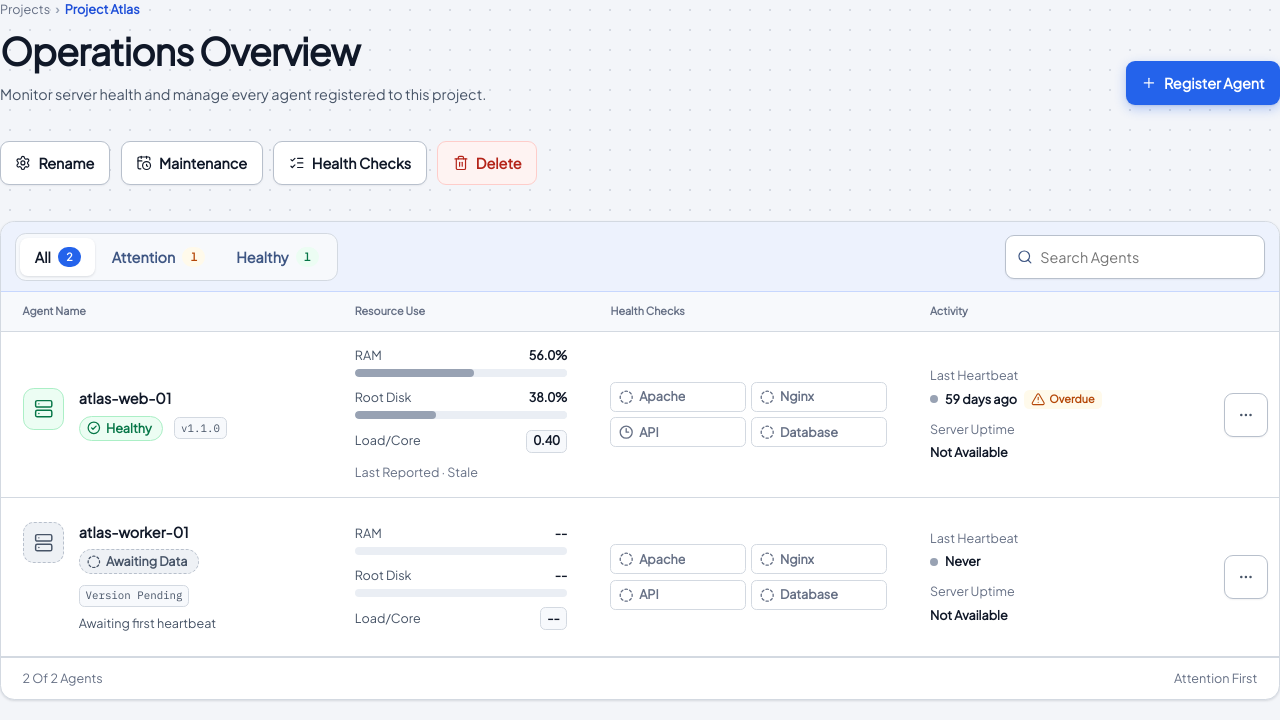
Test: project-scoped agents page › confirms agent registration with a toast
Click the button "Register Agent" at (1203, 83), box [1126, 61, 1279, 105]
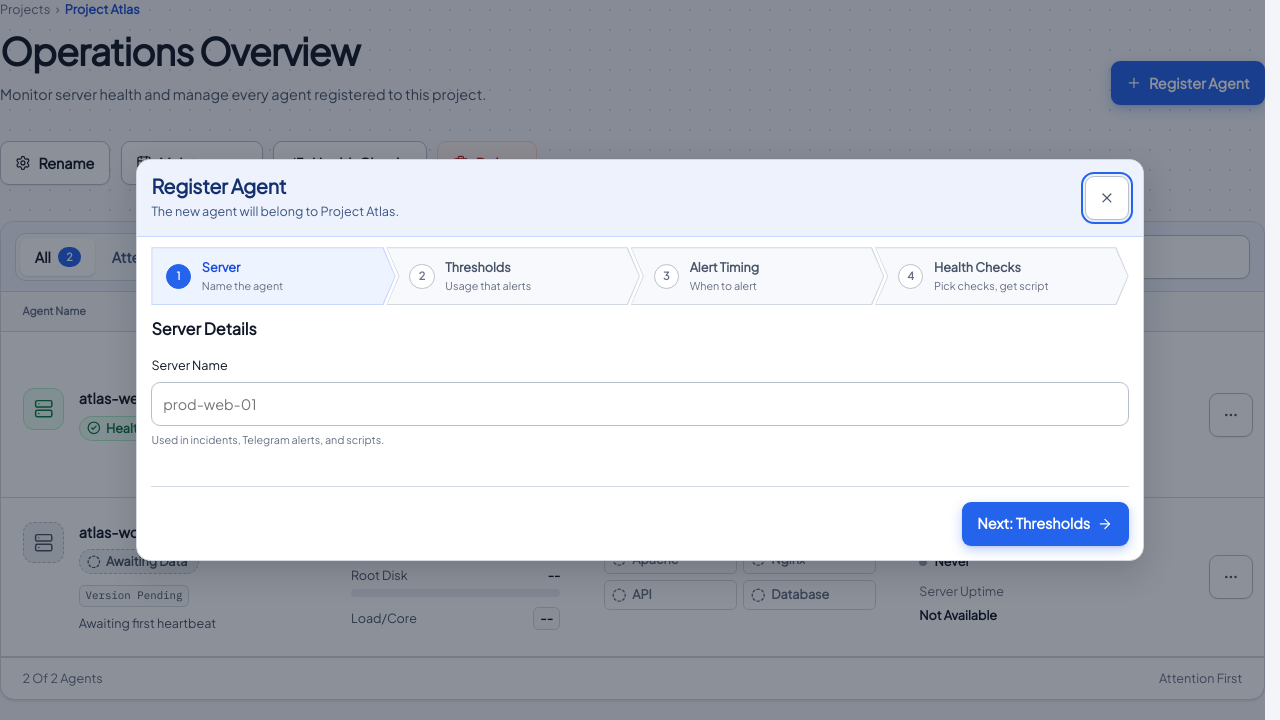
Type "atlas-api-01" into the field labelled "Server Name" at (640, 404), box [151, 382, 1129, 426]
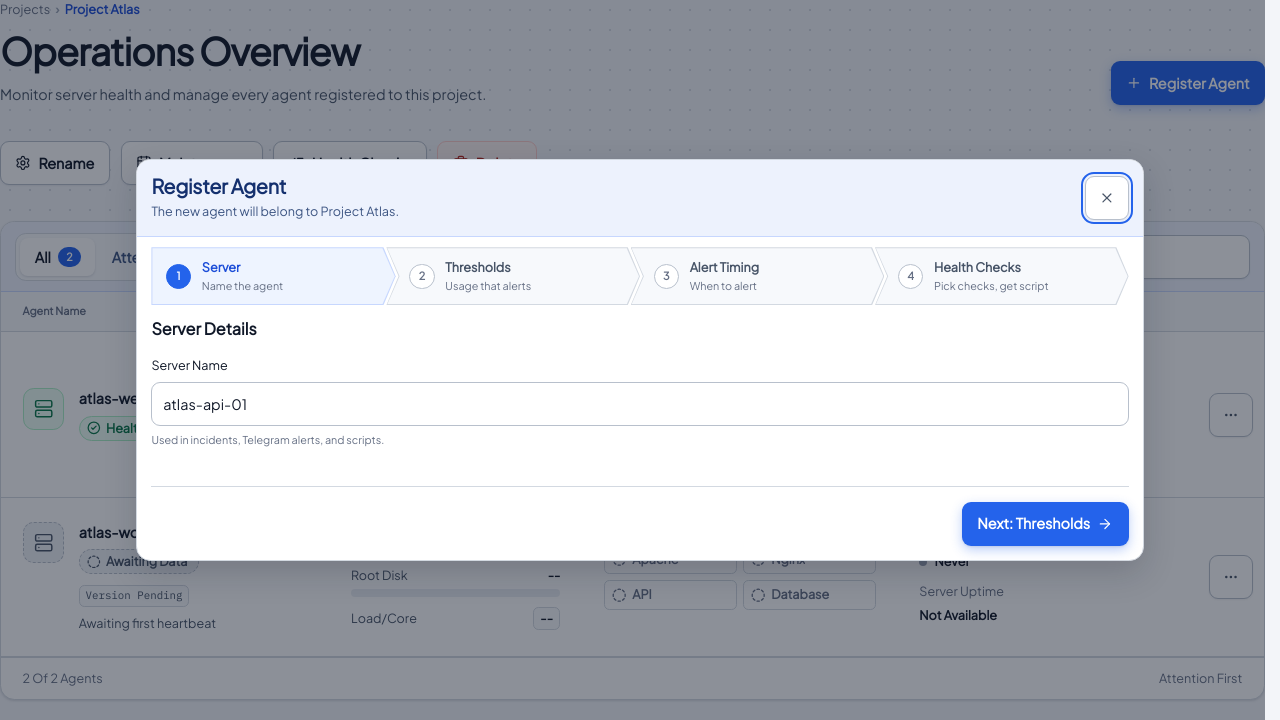
expect the field labelled "Middleware API URL" is not shown: met
Click the button "Next: Thresholds" at (1045, 524), box [962, 502, 1129, 546]
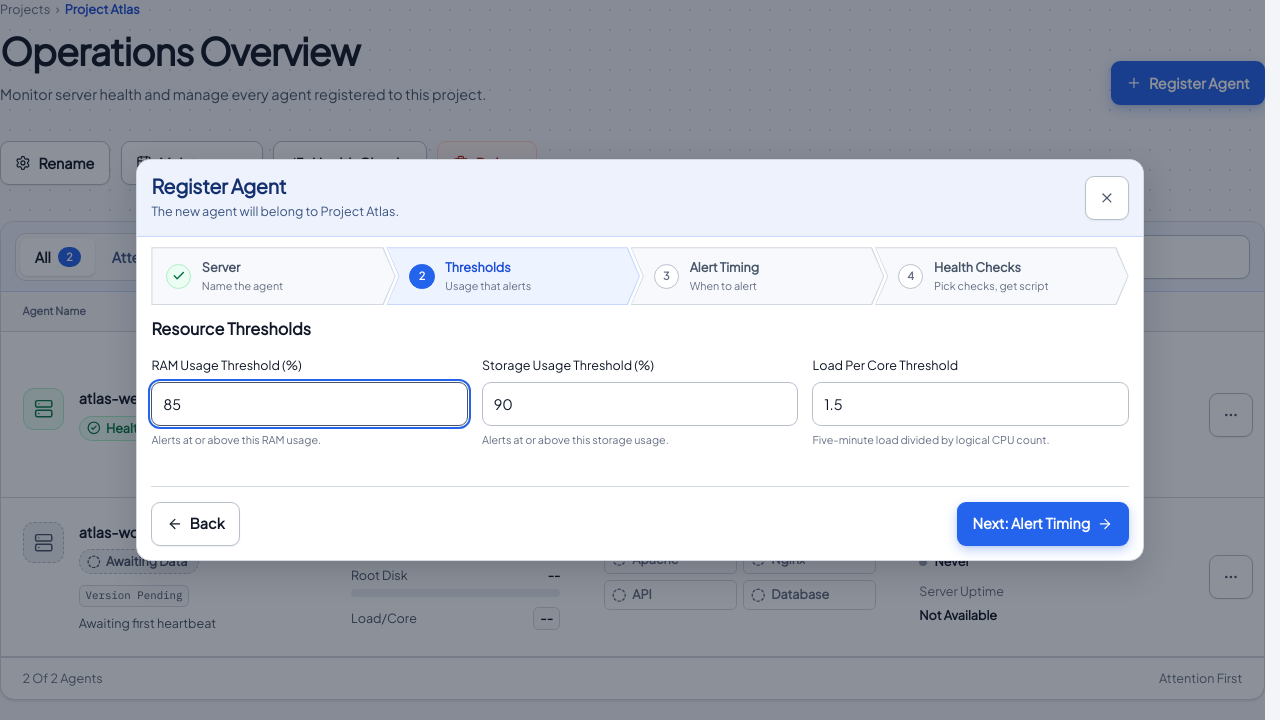
Click the button "Next: Alert Timing" at (1043, 524), box [957, 502, 1129, 546]
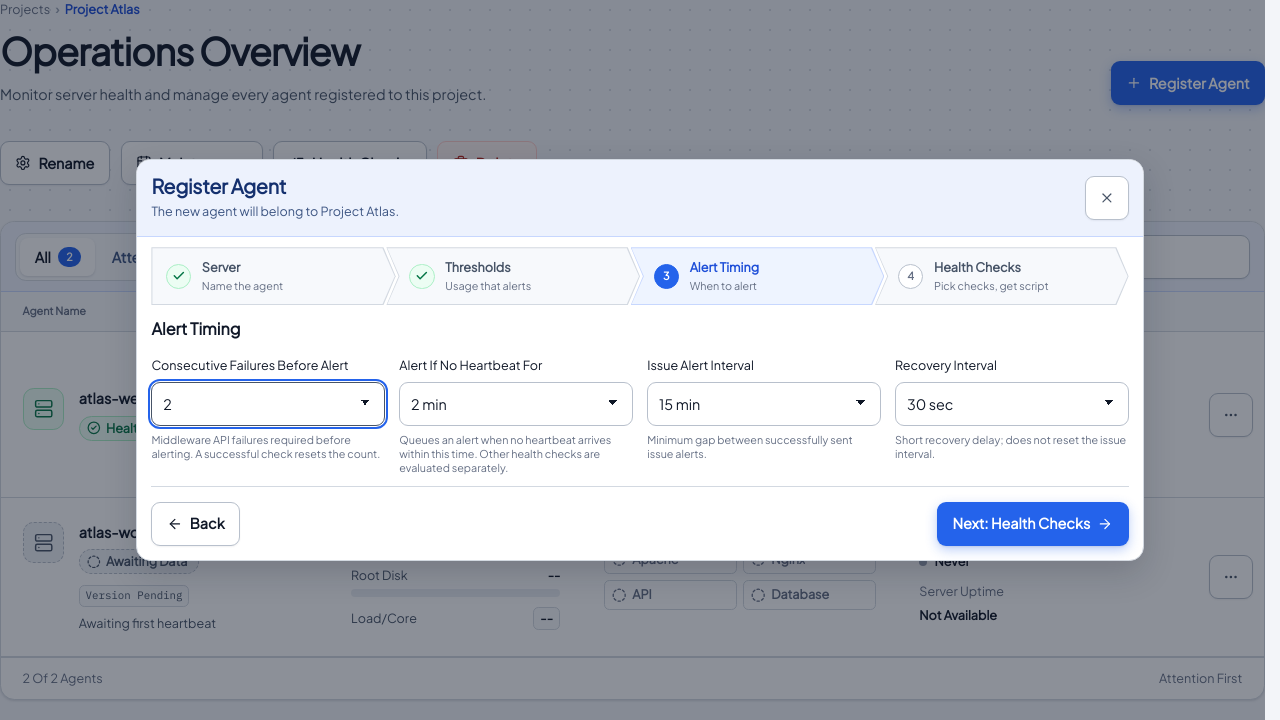
Click the button "Next: Health Checks" at (1033, 524), box [937, 502, 1129, 546]
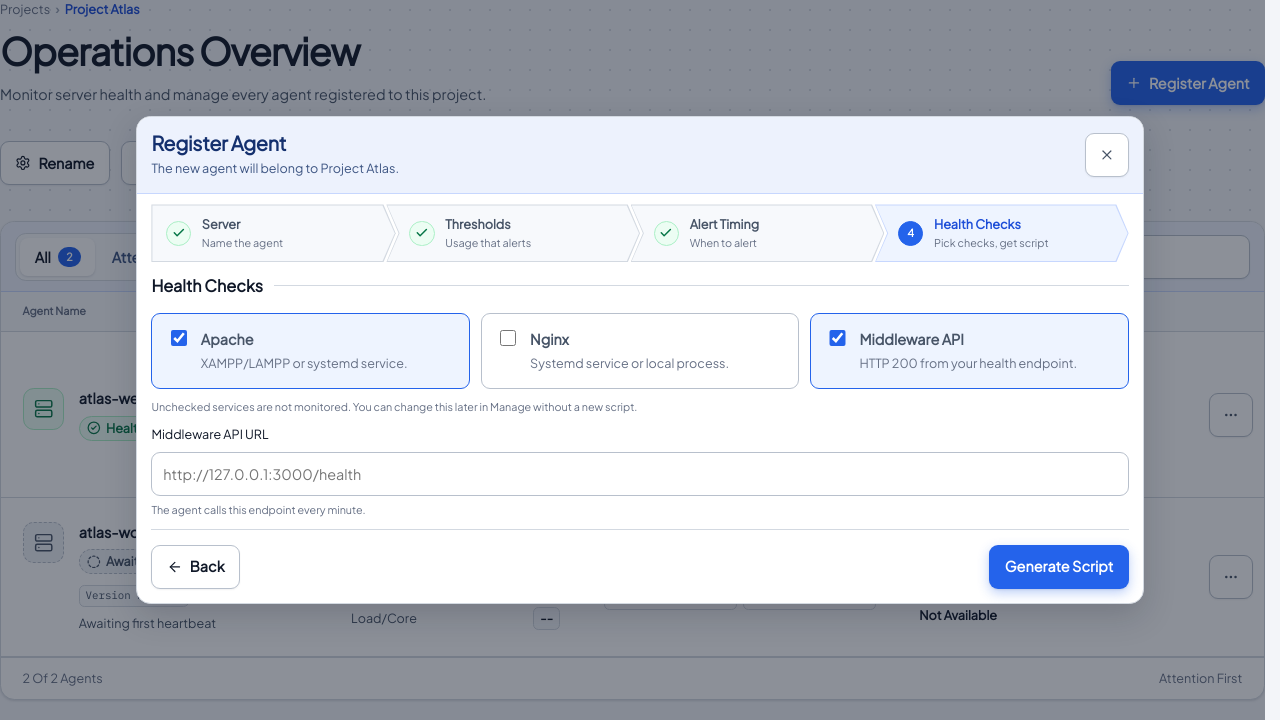
expect the list item "4 Health Checks Pick checks, get script" is marked as current: met, box [875, 204, 1129, 262]
Type "https://api.atlas.example.com/health" into the field labelled "Middleware API URL" at (640, 474), box [151, 452, 1129, 496]
Click the button "Generate Script" at (1059, 567), box [989, 545, 1129, 589]
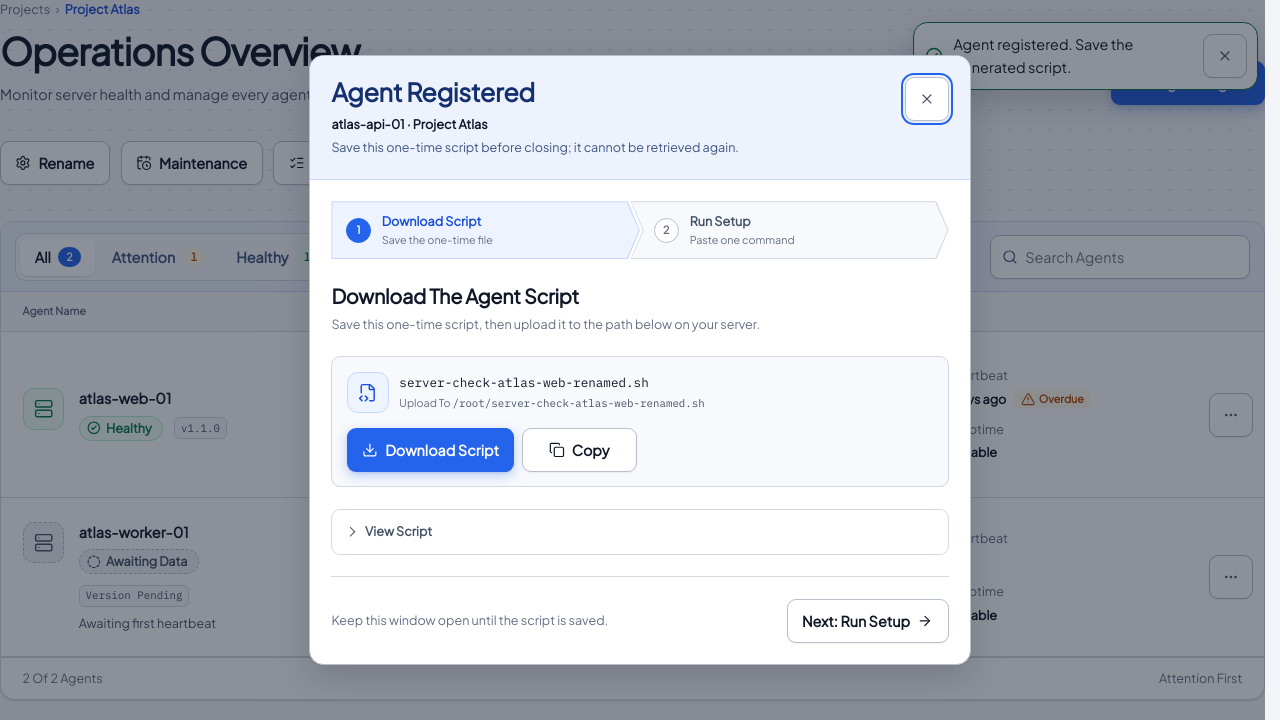
expect the dialog "Agent Registered" is shown: met, box [309, 54, 971, 665]
expect the message reads "Agent registered. Save the generated script.": met, box [953, 35, 1133, 76]
